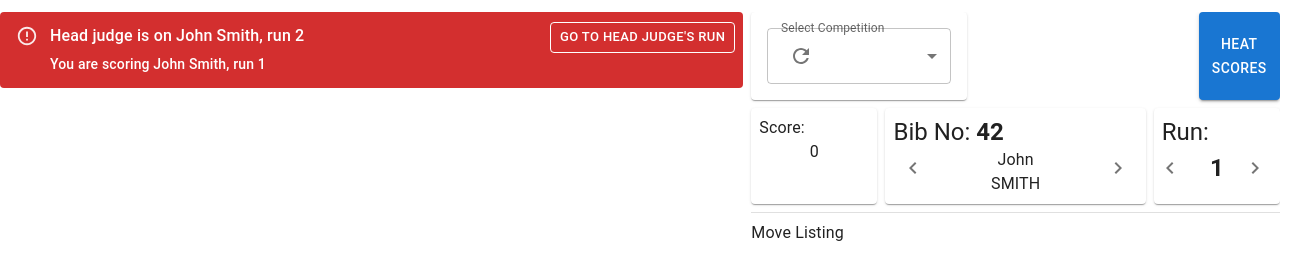
Scribe head judge mismatch banner › warns when the head judge is on a different run, and the button moves the scribe there
Expected: the element with test id "scored-move-list" is shown, [751, 223, 844, 242]
Expected: the message with test id "head-judge-mismatch-banner" shows "Head judge is on John Smith, run 2", [50, 26, 304, 45]
Click the button "Go to head judge's run": [643, 37] box [550, 22, 735, 53]
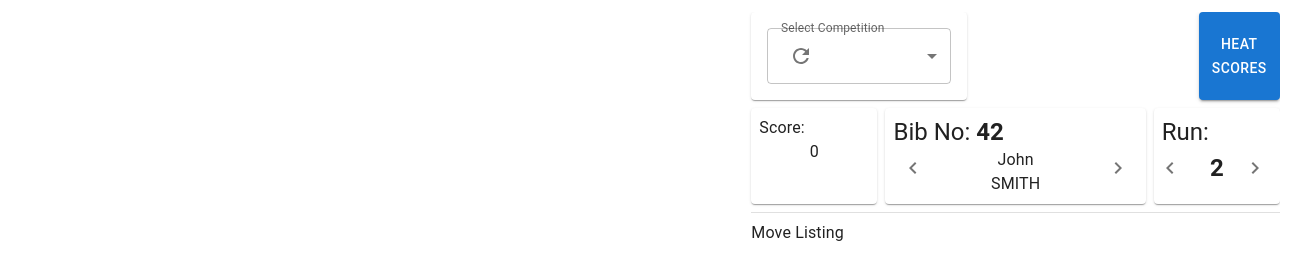
Expected: the message with test id "head-judge-mismatch-banner" is gone
